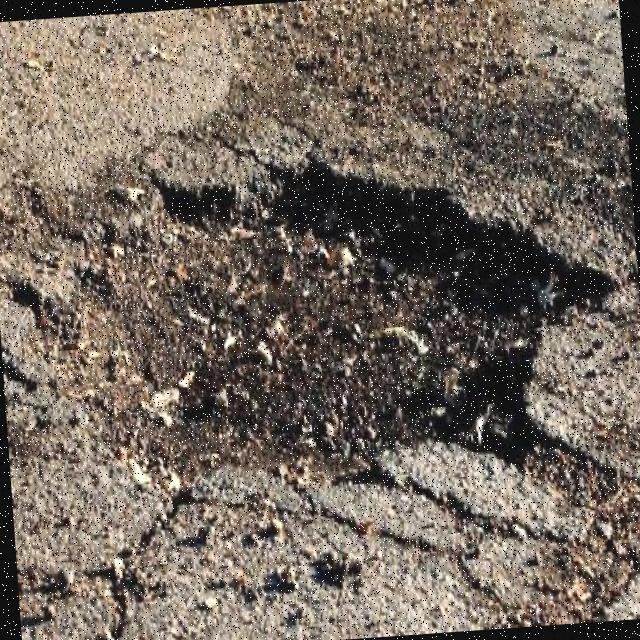Pothole: (16, 150, 621, 504)
